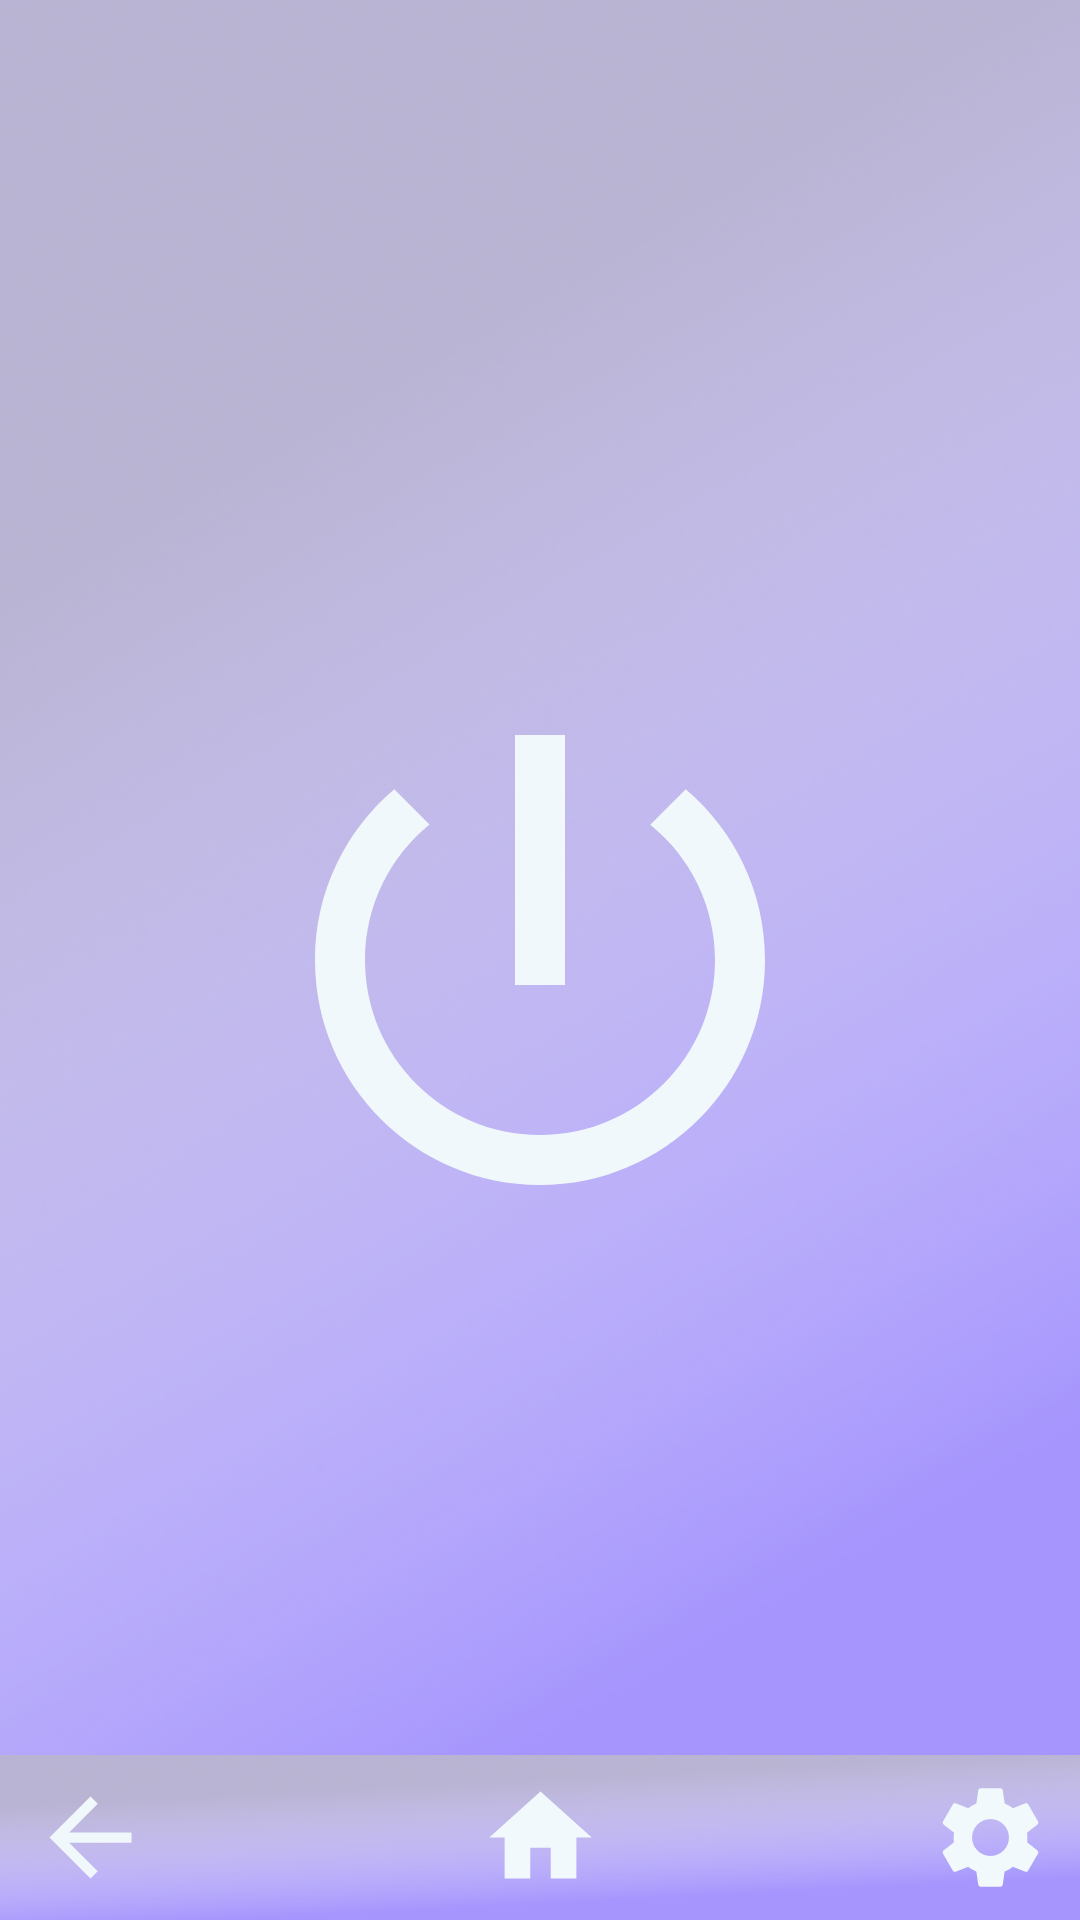

Icons on this 1080 × 1920 Android screen, each with the point to tap as (x,y):
home: (540,1837)
settings: (990,1837)
